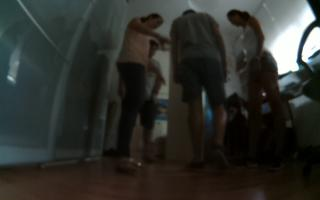person: (103, 5, 170, 180), (170, 2, 236, 176), (226, 8, 290, 175), (138, 38, 166, 165)
